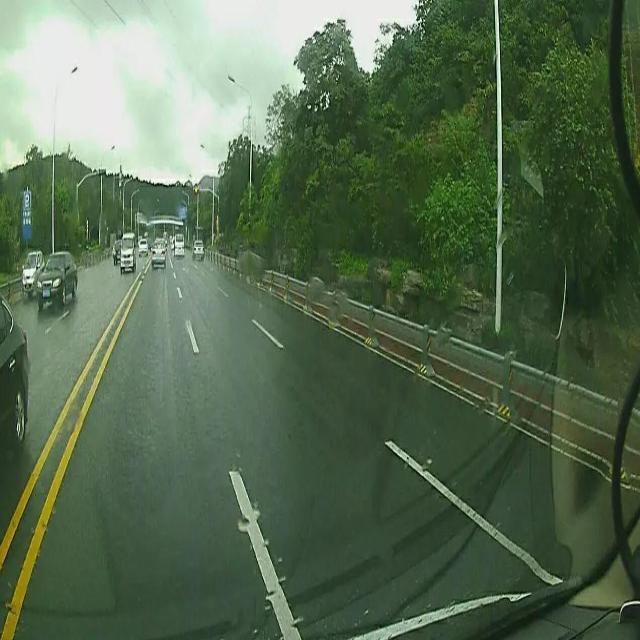car: (0, 298, 27, 446), (36, 251, 78, 308), (119, 231, 137, 268), (150, 234, 167, 268), (173, 233, 184, 256), (192, 238, 204, 258), (138, 238, 148, 255)
